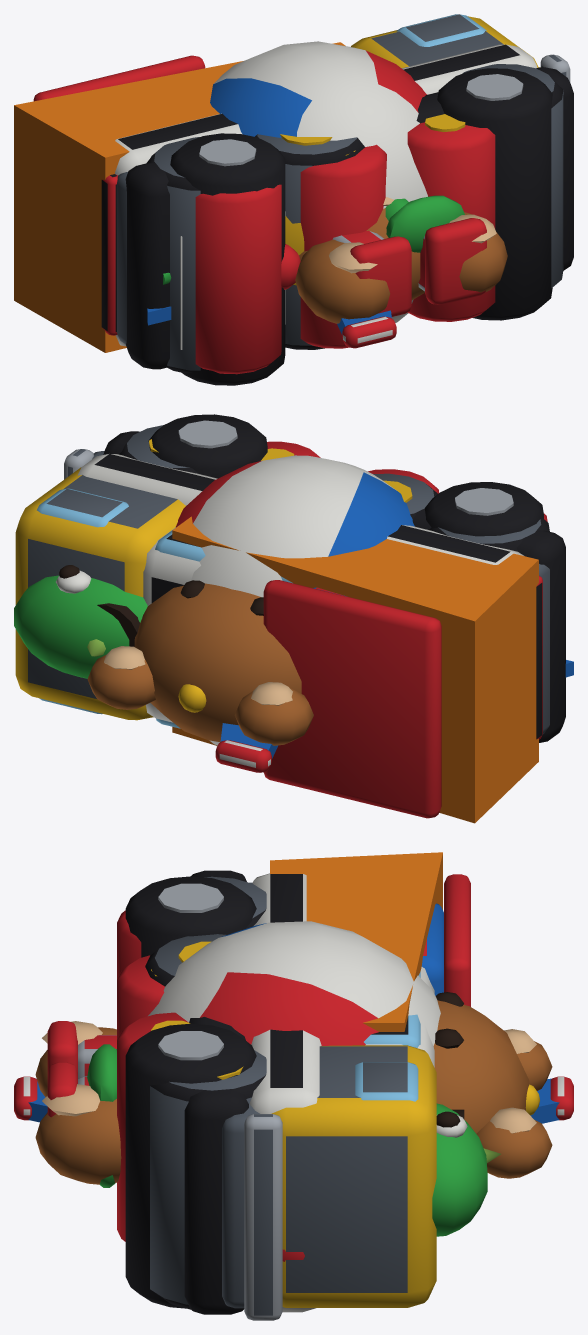
File: toys-BQF7xG_d.glb
3 renders of one model, top to bottom at view 1: azimuth 30°, elevation 25°; view 2: azimuth 150°, elevation 25°; view 3: azimuth 270°, elevation 25°, orthographic. The views are drawn at different scales.
Parts seen in each view (by area): view 1: truck, police, train, ball, bear, robot, trex, plane; view 2: truck, train, police, bear, ball, trex, plane, robot; view 3: truck, police, ball, bear, train, trex, robot, plane.
Part boxes in pixels (bbox=[...]): truck: bbox=[14, 14, 570, 373]; police: bbox=[101, 44, 573, 385]; train: bbox=[33, 55, 495, 374]; ball: bbox=[210, 41, 427, 322]; bear: bbox=[295, 197, 507, 323]; robot: bbox=[281, 218, 486, 316]; trex: bbox=[163, 195, 464, 289]; plane: bbox=[147, 306, 396, 348]; truck: bbox=[15, 425, 549, 823]; train: bbox=[97, 441, 547, 818]; police: bbox=[77, 414, 565, 742]; bear: bbox=[87, 580, 313, 745]; ball: bbox=[176, 455, 414, 746]; trex: bbox=[14, 565, 147, 678]; plane: bbox=[215, 660, 573, 772]; robot: bbox=[178, 684, 206, 712]; truck: bbox=[145, 852, 442, 1320]; police: bbox=[125, 870, 434, 1314]; ball: bbox=[148, 921, 440, 1045]; bear: bbox=[35, 992, 552, 1184]; train: bbox=[117, 874, 470, 1241]; trex: bbox=[87, 1044, 500, 1236]; robot: bbox=[47, 1021, 539, 1117]; plane: bbox=[14, 1076, 573, 1261].
Size of the model in its own units: 2.5 by 1.39 by 2.27.
